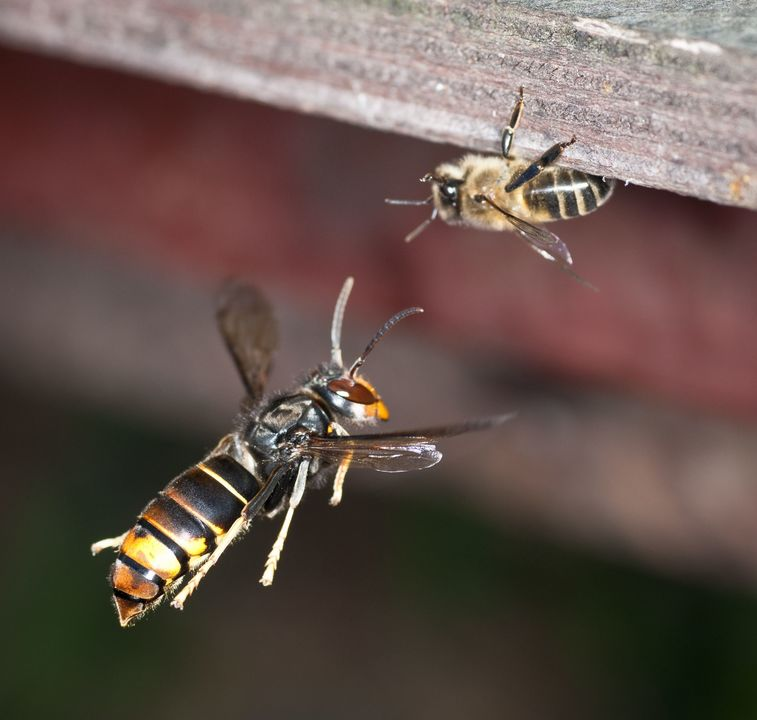bee: (405, 129, 617, 253)
hornet: (95, 303, 464, 635)
